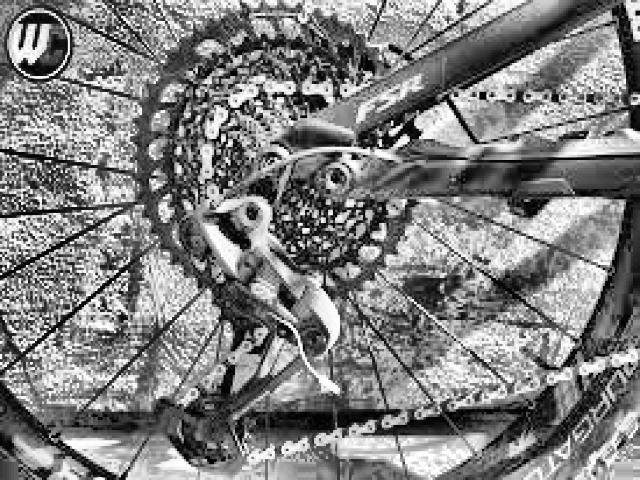cassette: (130, 1, 416, 307)
rear_derailleur: (152, 193, 344, 471)
